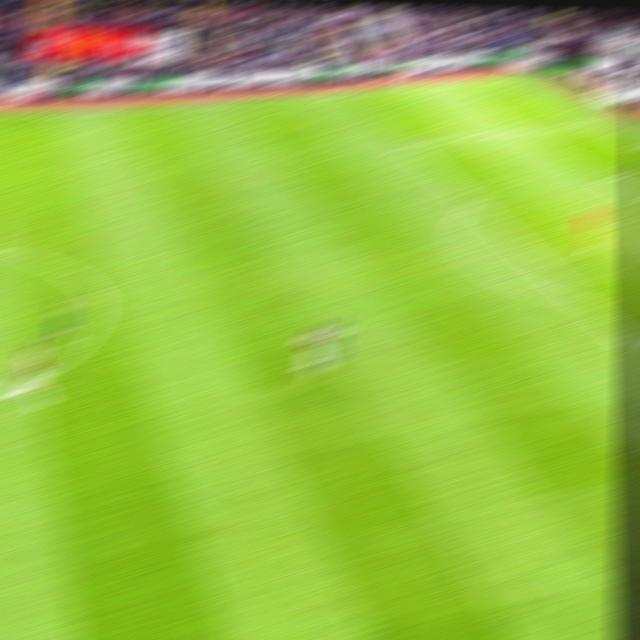bigarea_top_inner: (394, 140, 416, 150)
bigarea_top_outter: (579, 120, 598, 127)
bottom_arc_area_intersection: (568, 293, 590, 307)
corner: (499, 76, 522, 79)
smallarea_top_inner: (594, 174, 614, 181)
top_arc_area_intersection: (460, 198, 481, 207)
